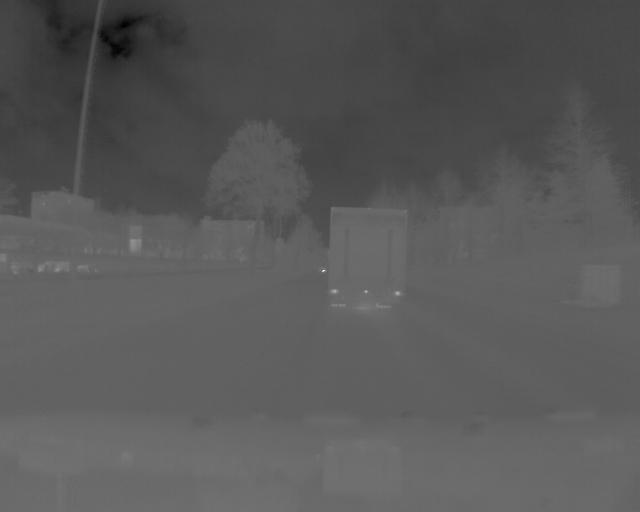car: (325, 204, 401, 317)
